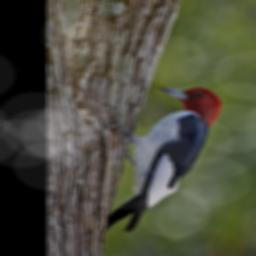Woodpecker: (98, 81, 226, 236)
